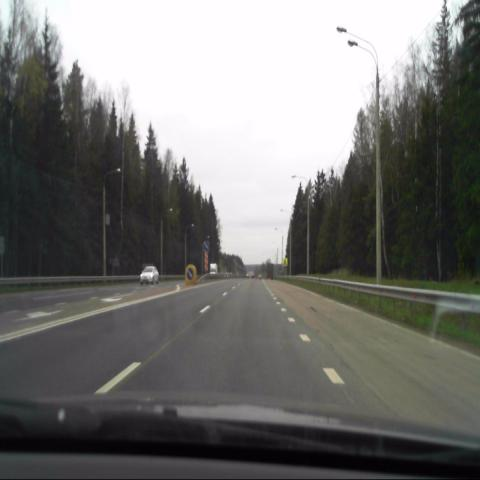4_2_1: (186, 266, 195, 282), (201, 237, 210, 253)
